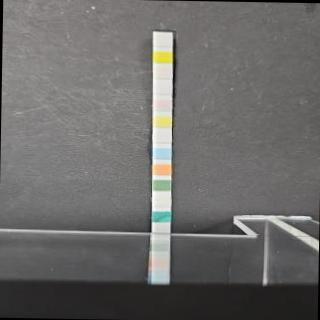mark: (152, 66, 172, 80), (152, 114, 171, 128), (152, 35, 172, 47), (152, 82, 172, 94), (152, 131, 172, 143), (151, 180, 171, 192), (151, 210, 171, 222), (154, 50, 172, 63), (152, 163, 170, 176), (152, 148, 171, 160), (152, 100, 172, 110), (152, 196, 170, 207)
